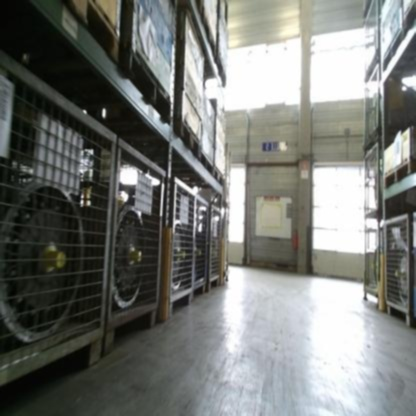pallets: (49, 2, 131, 84), (113, 46, 179, 131), (168, 122, 229, 188), (382, 162, 416, 192)
